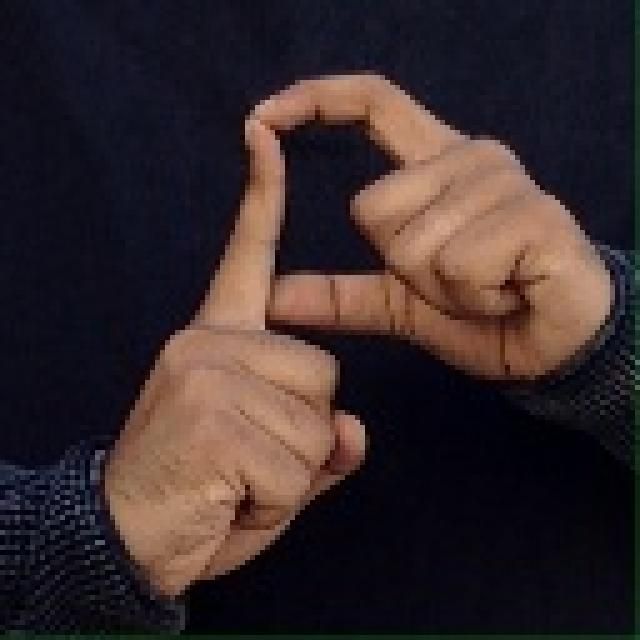Alphabet-D: (96, 58, 633, 592)
